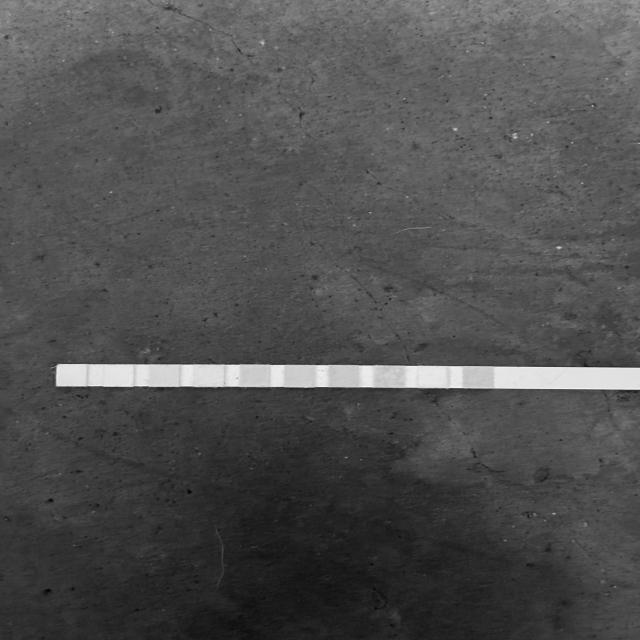Bilirubin: (418, 366, 447, 388)
Blood: (285, 366, 314, 387)
Glucose: (463, 367, 492, 388)
Ketone: (374, 367, 402, 388)
Leukocytes: (58, 365, 86, 386)
Nitrite: (105, 365, 133, 387)
Protein: (195, 365, 222, 386)
SpGravity: (329, 366, 357, 386)
Urobilinogen: (151, 366, 179, 386)
background: (0, 0, 640, 640)
pH: (241, 366, 267, 386)
strip: (56, 364, 640, 390)
